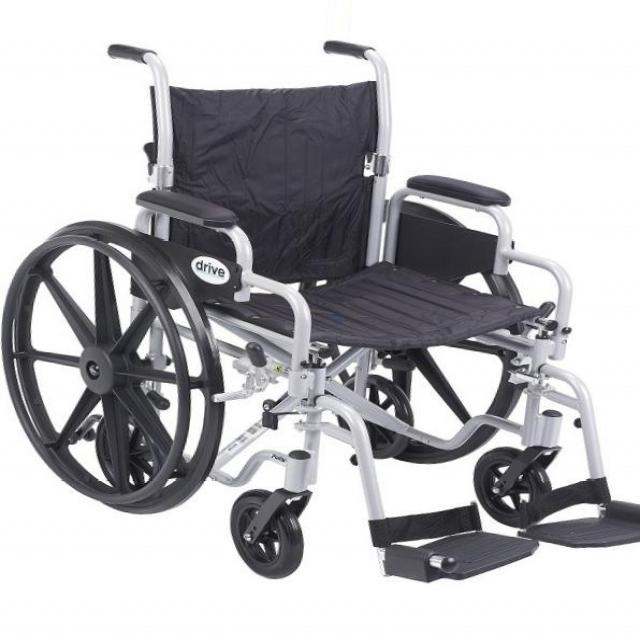wheelchair: (1, 22, 639, 601)
